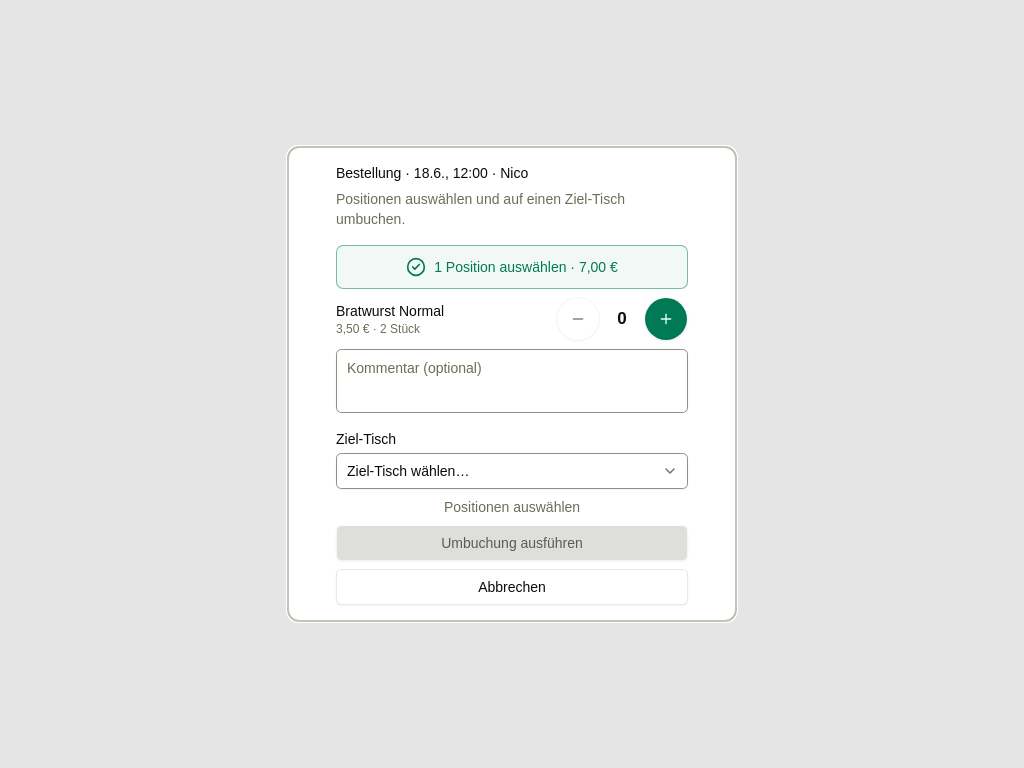
Test: HistorieUmbuchungDrawer › nennt den Sperrgrund neben der Aktion und gibt frei, sobald er erfüllt ist
The width and height of the screenshot is (1024, 768).
Expected: the button "Umbuchung ausführen" is disabled, [336,525,688,561]
Expected: the text "Positionen auswählen" is shown, [444,499,580,515]
Click the button "1 Position auswählen · 7,00 €" at (512, 267), box [336,245,688,289]
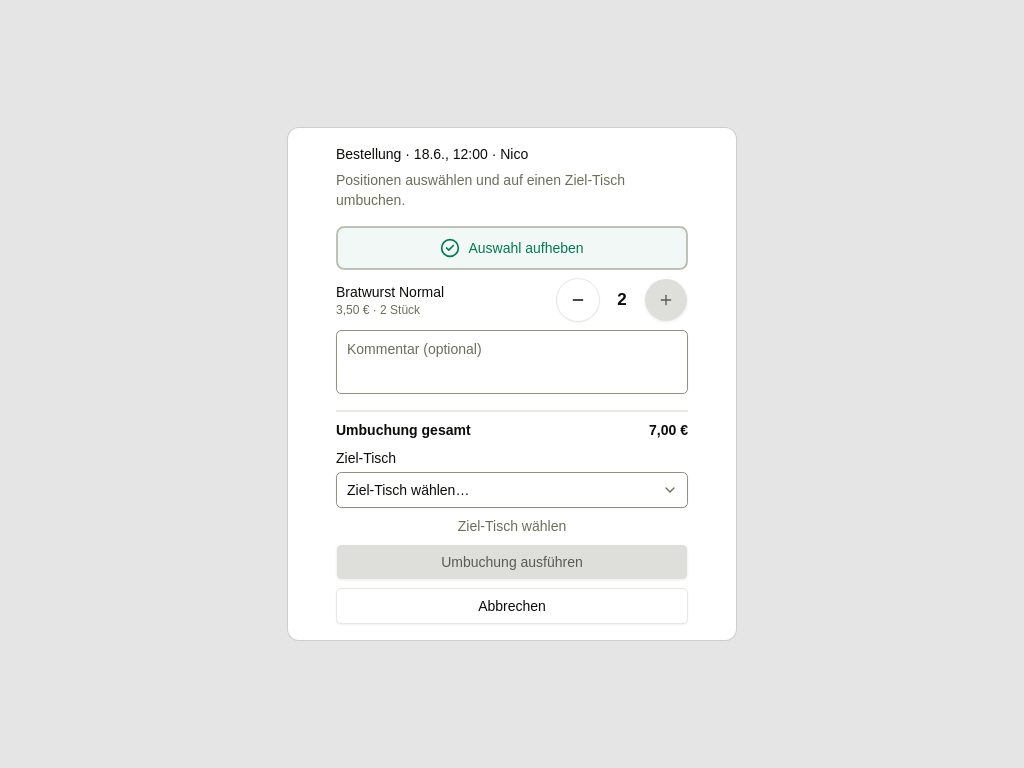
Expected: the button "Umbuchung ausführen" is disabled, [336,544,688,580]
Now the text "Ziel-Tisch wählen" is shown, box [458,518,566,534]
Select "Nebentisch" in the dropdown at (512, 490), box [336,472,688,508]
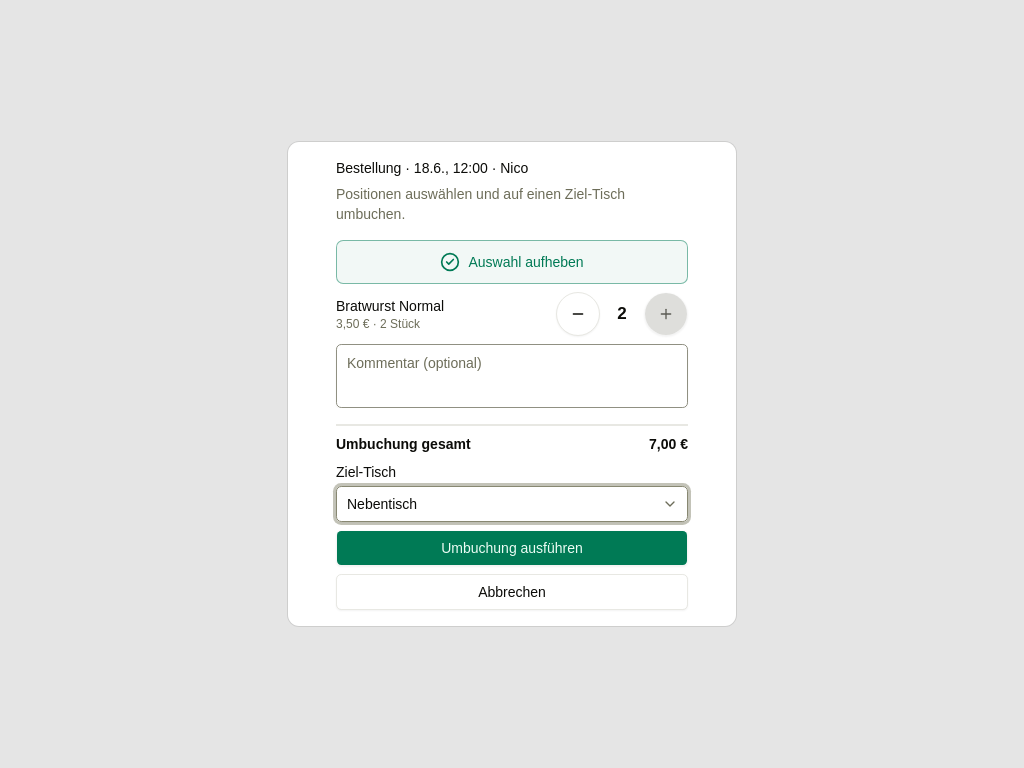
Now the text "Ziel-Tisch wählen" is gone
Now the button "Umbuchung ausführen" is enabled, box [336,530,688,566]
